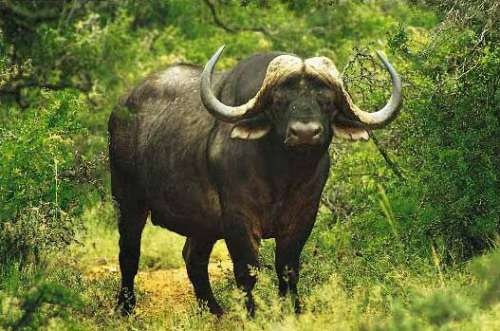buffalo: (106, 43, 403, 322)
